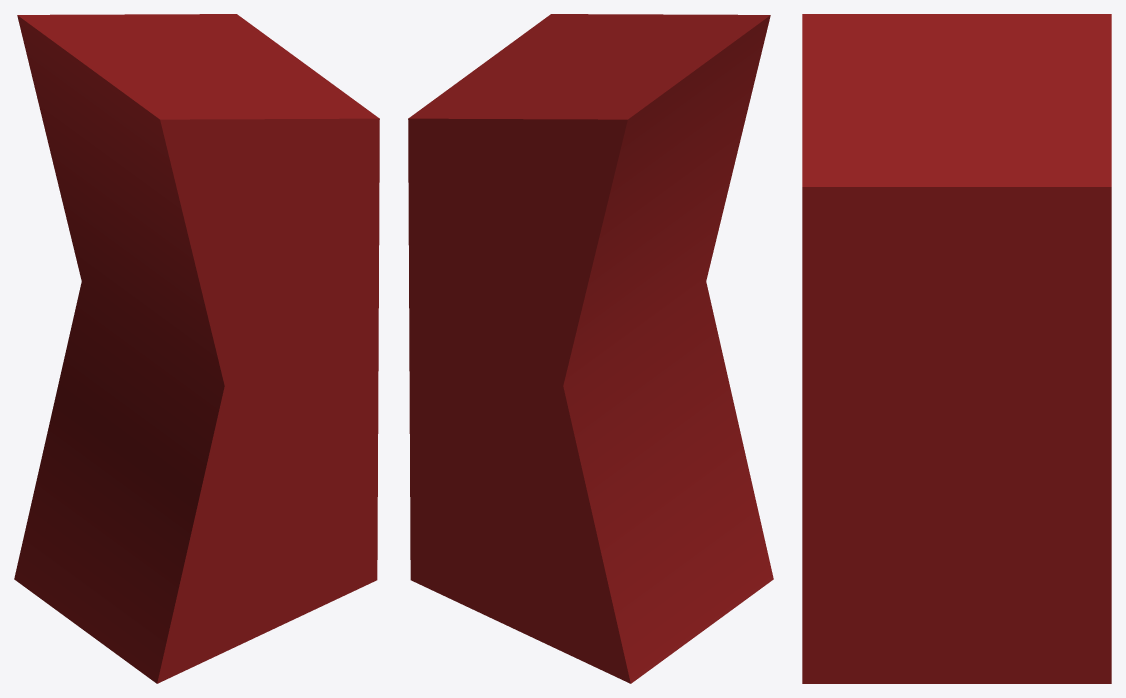
File: stage 3 smart barn controller button.fbx
3 renders of one model, left to right at view 1: azimuth 30°, elevation 25°; view 2: azimuth 150°, elevation 25°; view 3: azimuth 270°, elevation 25°, orthographic. The views are drawn at different scales.
Visible parts, largest first — view 1: Object001; view 2: Object001; view 3: Object001.
Boxes of the visible parts, x1=… form: Object001: x1=14, y1=14, x2=379, y2=683; Object001: x1=408, y1=14, x2=773, y2=683; Object001: x1=802, y1=14, x2=1111, y2=683.
Bounding box in the file's own units: 1.52 × 1.69 × 3.67.
